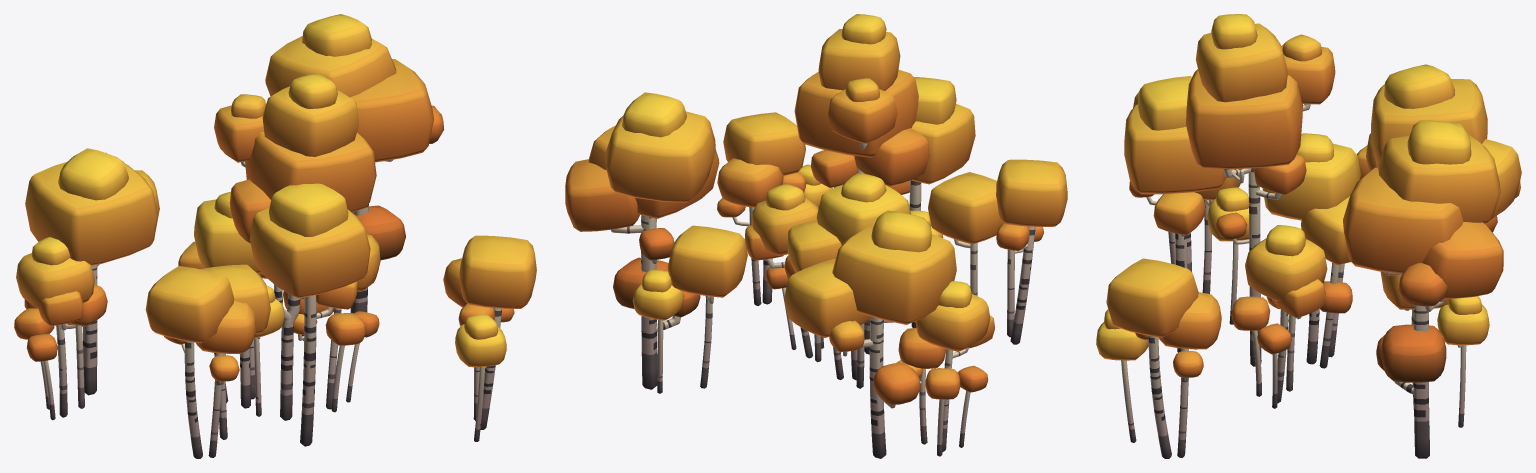
The model's file is birch_tree_group_col2.fbx.
3 views of the same model, side by side, from view 1: azimuth 30°, elevation 25°; view 2: azimuth 150°, elevation 25°; view 3: azimuth 270°, elevation 25° (orthographic). The views are drawn at different scales.
Parts seen in each view (by area): view 1: birch_tree_group_col2; view 2: birch_tree_group_col2; view 3: birch_tree_group_col2.
Boxes of the visible parts, left/top/right/bottom form: birch_tree_group_col2: left=14, top=14, right=536, bottom=458; birch_tree_group_col2: left=565, top=14, right=1067, bottom=458; birch_tree_group_col2: left=1096, top=14, right=1521, bottom=458.
Size of the model in its own units: 1686 by 1362 by 1410.
